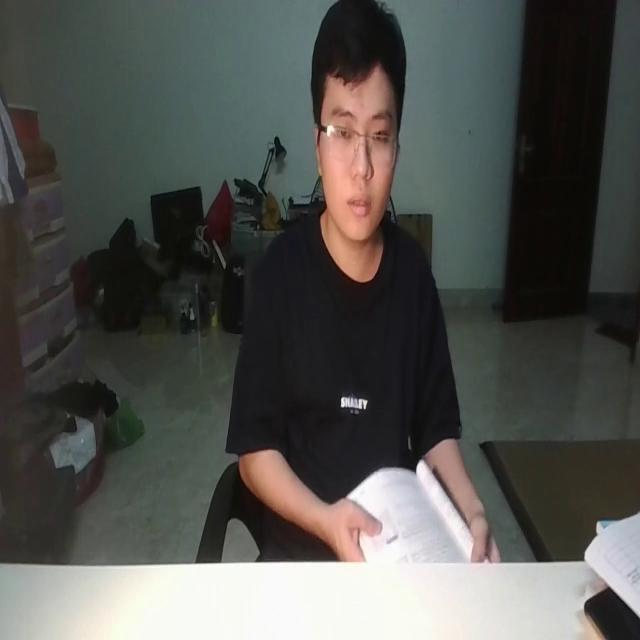book: (339, 457, 491, 564)
student: (225, 0, 503, 565)
